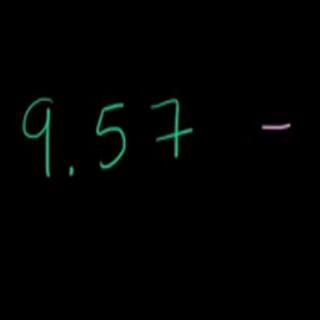.: (66, 165, 77, 182)
5: (91, 92, 129, 174)
7: (144, 96, 198, 163)
9: (12, 86, 63, 181)
